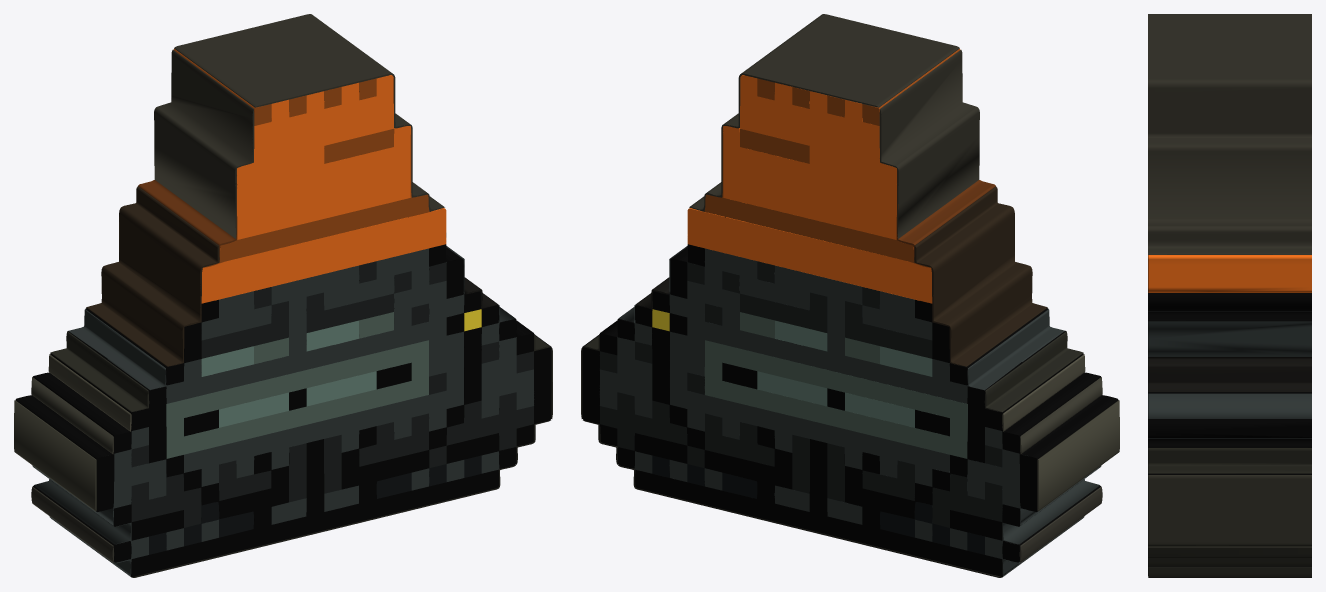
Rendered from Toadz_5641.glb.
3 renders of one model, left to right at view 1: azimuth 30°, elevation 25°; view 2: azimuth 150°, elevation 25°; view 3: azimuth 270°, elevation 25°, orthographic.
Parts seen in each view (by area): view 1: Curve; view 2: Curve; view 3: Curve.
Part boxes in pixels (x1=…): Curve: x1=14, y1=14, x2=552, y2=577; Curve: x1=581, y1=14, x2=1119, y2=577; Curve: x1=1148, y1=14, x2=1311, y2=577.
Bounding box in the file's own units: 3.25 × 3 × 1.
